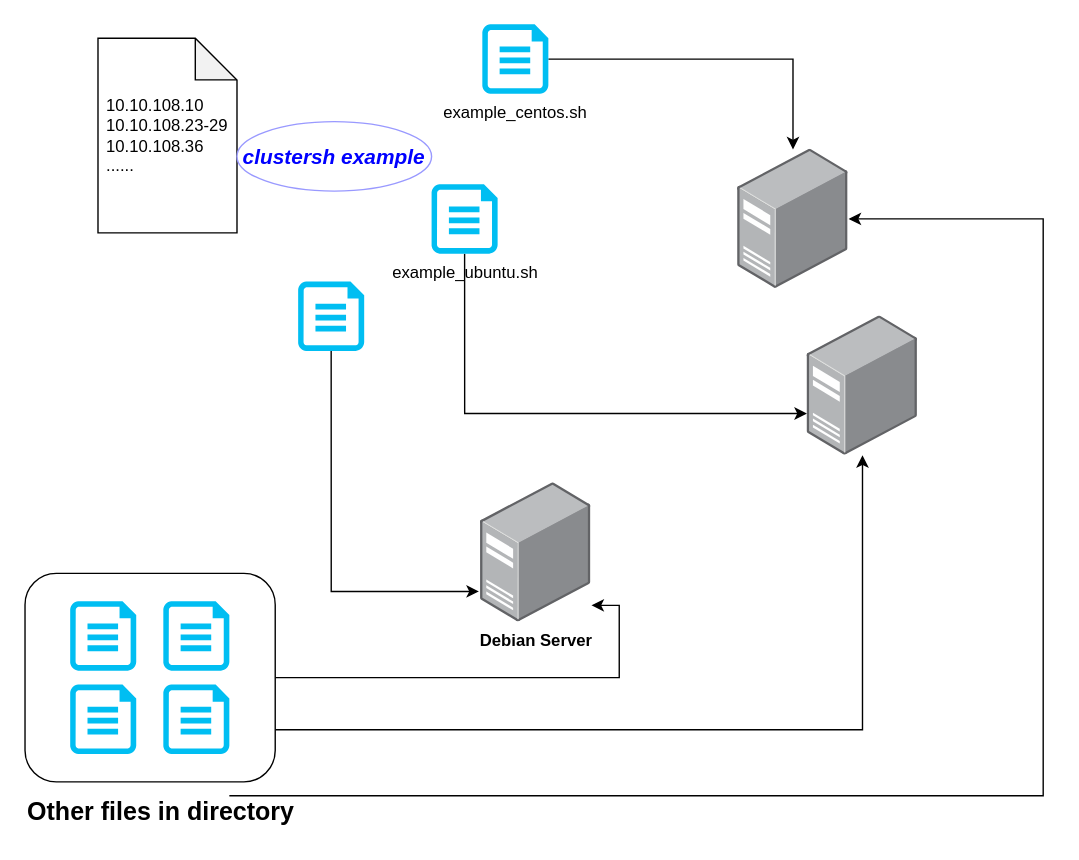
Some shapes in this 1079 by 860 pixel diagram are drawn without their labels. The shapes that lost their labels are listed below. From the top down, each one's centre as x and y in pixels, then its label:
[792,218]: CentOS Server
[330,315]: example_debian.sh
[861,385]: Ubuntu Server
